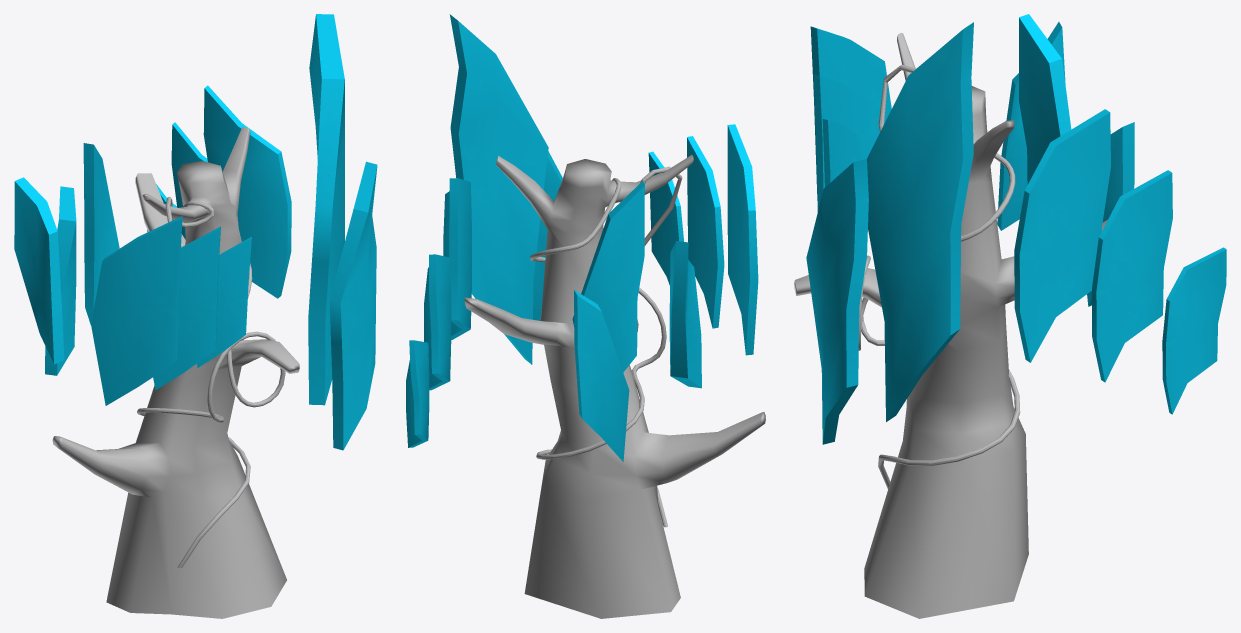
The model's file is Tree_2.fbx.
3 views of the same model, side by side, from view 1: azimuth 30°, elevation 25°; view 2: azimuth 150°, elevation 25°; view 3: azimuth 270°, elevation 25° (orthographic). The views are drawn at different scales.
Parts seen in each view (by area): view 1: polySurface62; view 2: polySurface62; view 3: polySurface62.
Part boxes in pixels (<box>): polySurface62: <box>14,14,377,618</box>; polySurface62: <box>406,14,765,618</box>; polySurface62: <box>794,14,1226,618</box>.
Size of the model in its own units: 780 by 1353 by 846.
